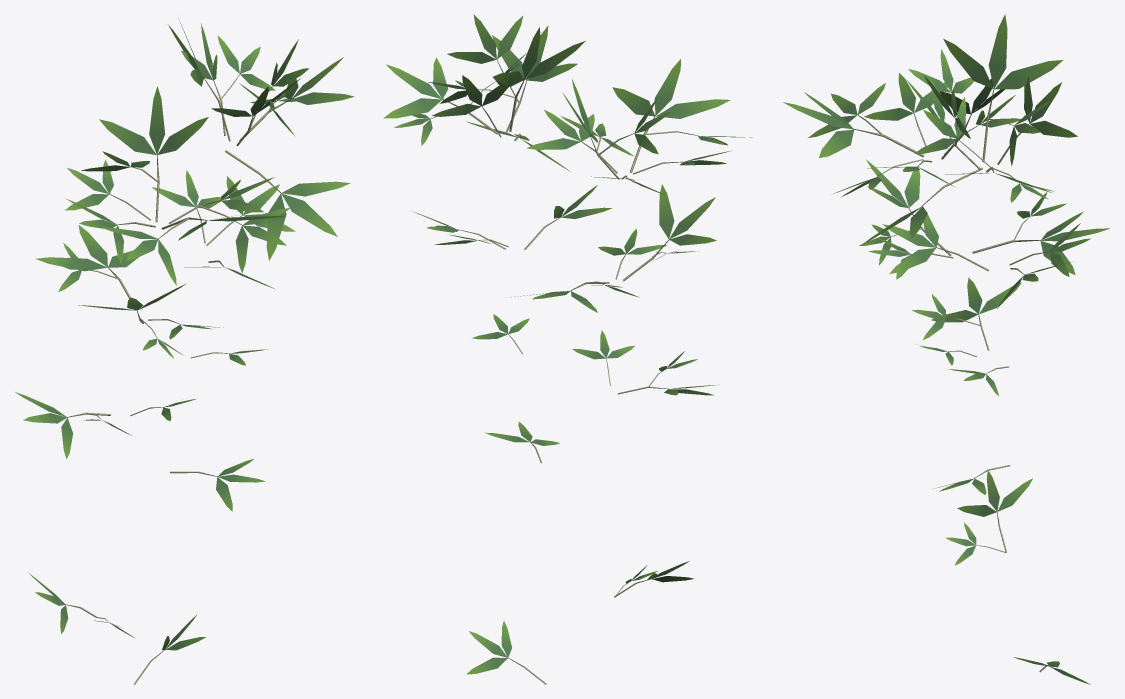
3 views of the same model, side by side, from view 1: azimuth 30°, elevation 25°; view 2: azimuth 150°, elevation 25°; view 3: azimuth 270°, elevation 25° (orthographic). The views are drawn at different scales.
Parts seen in each view (by area): view 1: plant; view 2: plant; view 3: plant.
Boxes of the visible parts, left/top/right/bottom form: plant: left=15, top=18, right=354, bottom=684; plant: left=383, top=14, right=752, bottom=684; plant: left=783, top=14, right=1110, bottom=684.
Bounding box in the file's own units: 0.2607 × 0.5 × 0.2222.
